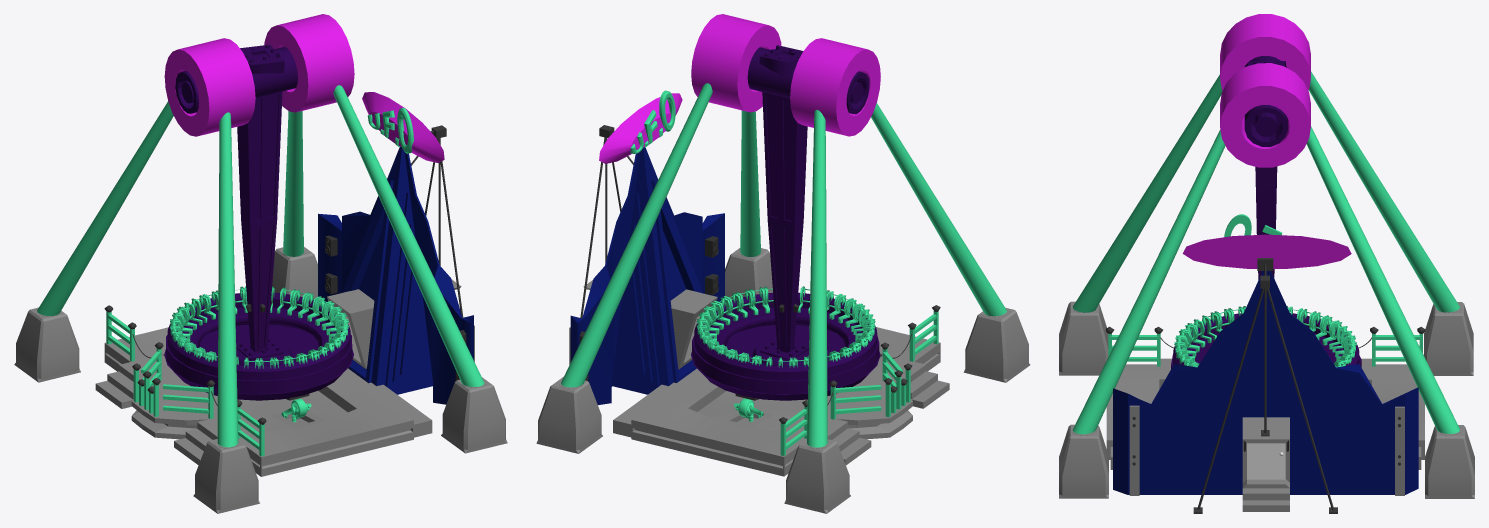
File: UFOPendulum.fbx
The picture shows the model from 3 angles, left to right: view 1: azimuth 30°, elevation 25°; view 2: azimuth 150°, elevation 25°; view 3: azimuth 270°, elevation 25°; orthographic projection.
Visible parts, largest first — view 1: PendulumBase, MainPlatform, MainPlatformBackdrop, PendulumArm, PendulumSpinner, Seats, Fences, UFO Sign, UFO Sign Stand, UFO Sign Text, MainPlatformSpeakers; view 2: PendulumBase, MainPlatform, MainPlatformBackdrop, PendulumArm, PendulumSpinner, Seats, Fences, UFO Sign, UFO Sign Stand, UFO Sign Text, MainPlatformSpeakers; view 3: PendulumBase, MainPlatformBackdrop, MainPlatform, UFO Sign, PendulumArm, Seats, UFO Sign Stand, Fences, BackDoor, PendulumSpinner, BackDoorCeiling, UFO Sign Text.
Boxes of the visible parts, x1,y1,x2,y2 form: PendulumBase: (14, 14, 507, 513); MainPlatform: (95, 289, 432, 476); MainPlatformBackdrop: (318, 146, 474, 404); PendulumArm: (175, 44, 297, 365); PendulumSpinner: (164, 292, 353, 400); Seats: (170, 286, 348, 369); Fences: (104, 305, 266, 456); UFO Sign: (362, 92, 444, 162); UFO Sign Stand: (411, 125, 463, 317); UFO Sign Text: (367, 107, 413, 153); MainPlatformSpeakers: (325, 235, 466, 381); PendulumBase: (536, 14, 1030, 513); MainPlatform: (613, 289, 949, 476); MainPlatformBackdrop: (569, 147, 724, 405); PendulumArm: (747, 45, 869, 365); PendulumSpinner: (691, 292, 880, 400); Seats: (696, 286, 875, 367); Fences: (779, 305, 940, 455); UFO Sign: (599, 93, 682, 163); UFO Sign Stand: (580, 125, 633, 318); UFO Sign Text: (630, 90, 675, 153); MainPlatformSpeakers: (579, 236, 718, 381); PendulumBase: (1059, 14, 1474, 498); MainPlatformBackdrop: (1113, 271, 1418, 495); MainPlatform: (1106, 358, 1424, 511); UFO Sign: (1182, 234, 1351, 268); PendulumArm: (1244, 56, 1287, 279); Seats: (1174, 306, 1356, 367); UFO Sign Stand: (1193, 258, 1337, 513); Fences: (1106, 326, 1425, 366); BackDoor: (1247, 443, 1285, 479); PendulumSpinner: (1171, 313, 1361, 368); BackDoorCeiling: (1242, 418, 1289, 443); UFO Sign Text: (1224, 214, 1282, 237).
Size of the model in its own units: 952 by 1005 by 1008.
